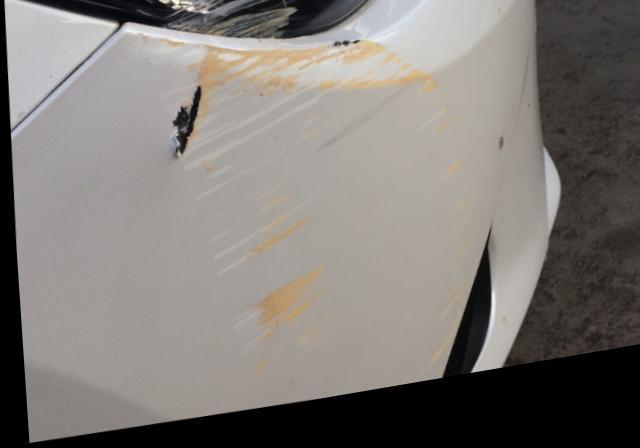scratch: (130, 36, 469, 385), (154, 0, 307, 46)
